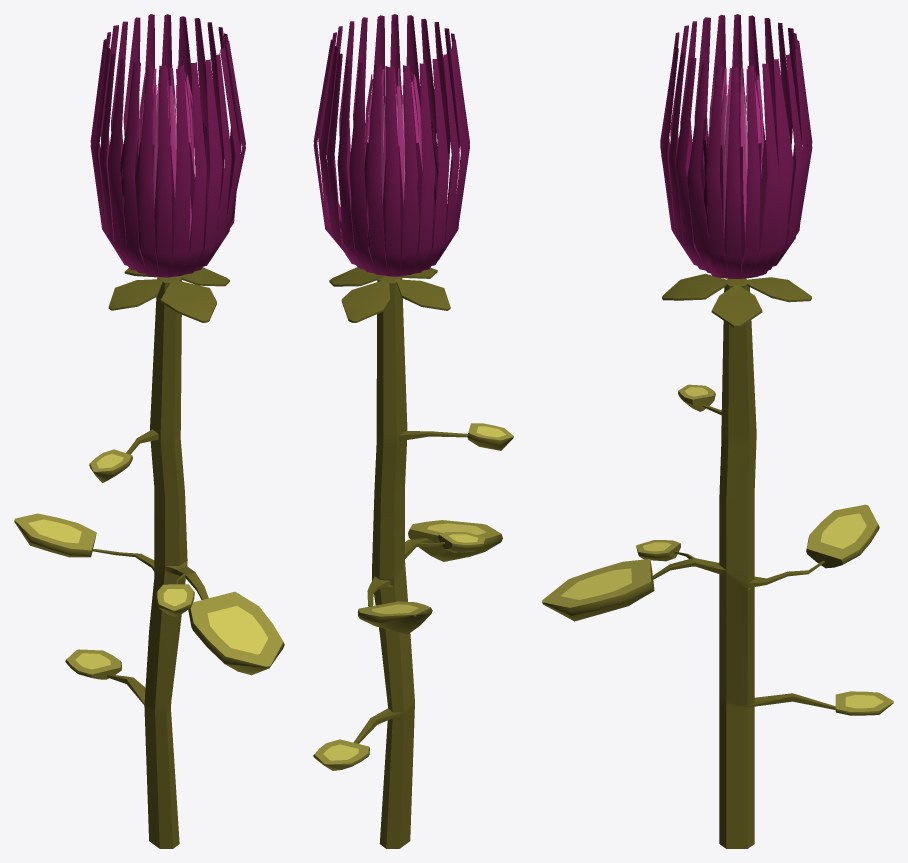
File: Planta Fechada_12H.fbx
3 views of the same model, side by side, from view 1: azimuth 30°, elevation 25°; view 2: azimuth 150°, elevation 25°; view 3: azimuth 270°, elevation 25° (orthographic).
Visible parts, largest first — view 1: pCylinder6, pCube4, pCube5, pCube8, pCylinder1, pCylinder5, pCube7, pCube6, pCube2; view 2: pCylinder6, pCube4, pCylinder1, pCube5, pCube8, pCylinder5, pCube7, pCube2, pCube6; view 3: pCylinder6, pCube4, pCube5, pCube8, pCylinder5, pCylinder1, pCube7, pCube6, pCube2.
Boxes of the visible parts, bbox=[...] form: pCylinder6: bbox=[90, 14, 245, 277]; pCube4: bbox=[92, 267, 229, 848]; pCube5: bbox=[188, 591, 284, 675]; pCube8: bbox=[14, 513, 96, 557]; pCylinder1: bbox=[138, 68, 194, 240]; pCylinder5: bbox=[120, 114, 207, 265]; pCube7: bbox=[65, 649, 121, 679]; pCube6: bbox=[156, 584, 194, 616]; pCube2: bbox=[89, 449, 132, 482]; pCylinder6: bbox=[313, 14, 469, 277]; pCube4: bbox=[329, 267, 467, 848]; pCylinder1: bbox=[364, 68, 422, 243]; pCube5: bbox=[408, 520, 502, 561]; pCube8: bbox=[357, 601, 432, 634]; pCylinder5: bbox=[350, 118, 438, 266]; pCube7: bbox=[313, 739, 369, 770]; pCube2: bbox=[467, 423, 513, 450]; pCube6: bbox=[438, 532, 485, 552]; pCylinder6: bbox=[660, 14, 812, 278]; pCube4: bbox=[652, 273, 835, 848]; pCube5: bbox=[542, 559, 654, 621]; pCube8: bbox=[806, 504, 879, 568]; pCylinder5: bbox=[687, 113, 778, 261]; pCylinder1: bbox=[706, 68, 763, 243]; pCube7: bbox=[835, 691, 893, 715]; pCube6: bbox=[636, 540, 680, 561]; pCube2: bbox=[678, 384, 715, 411].
Bounding box in the file's own units: 358 × 1657 × 656.
